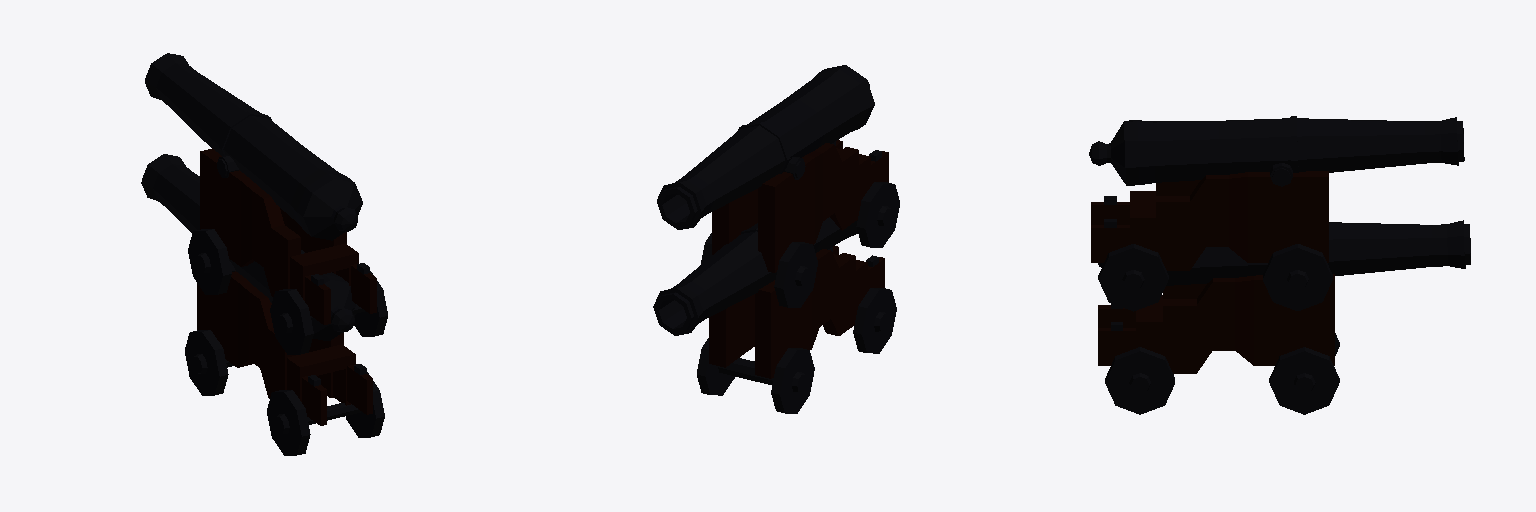
File: Cannon.obj
The picture shows the model from 3 angles: view 1: azimuth 30°, elevation 25°; view 2: azimuth 150°, elevation 25°; view 3: azimuth 270°, elevation 25°; orthographic projection.
Visible parts, largest first — view 1: Cannon_Cylinder.003, Cylinder.001, Cylinder; view 2: Cannon_Cylinder.003, Cylinder.001, Cylinder; view 3: Cannon_Cylinder.003, Cylinder.001, Cylinder.
Boxes of the visible parts, x1=… form: Cannon_Cylinder.003: x1=145, y1=53, x2=387, y2=354; Cylinder.001: x1=185, y1=262, x2=384, y2=455; Cylinder: x1=141, y1=154, x2=355, y2=340; Cannon_Cylinder.003: x1=657, y1=65, x2=899, y2=307; Cylinder.001: x1=697, y1=246, x2=896, y2=413; Cylinder: x1=653, y1=217, x2=857, y2=335; Cannon_Cylinder.003: x1=1089, y1=116, x2=1464, y2=311; Cylinder.001: x1=1098, y1=274, x2=1339, y2=414; Cylinder: x1=1098, y1=220, x2=1470, y2=285.
Size of the model in its own units: 1.92 by 5.5 by 6.88.